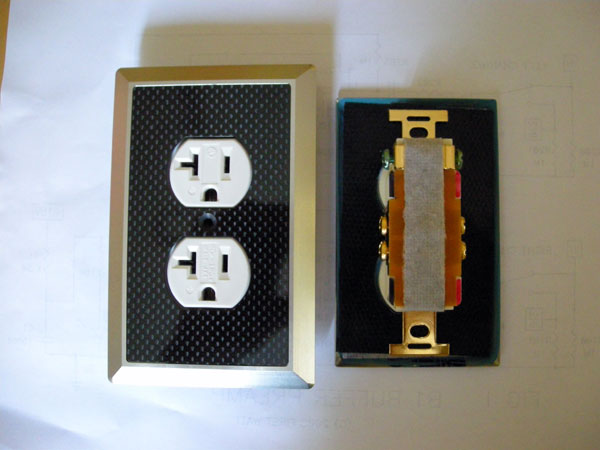outlet: (173, 246, 232, 306), (177, 150, 234, 205)
